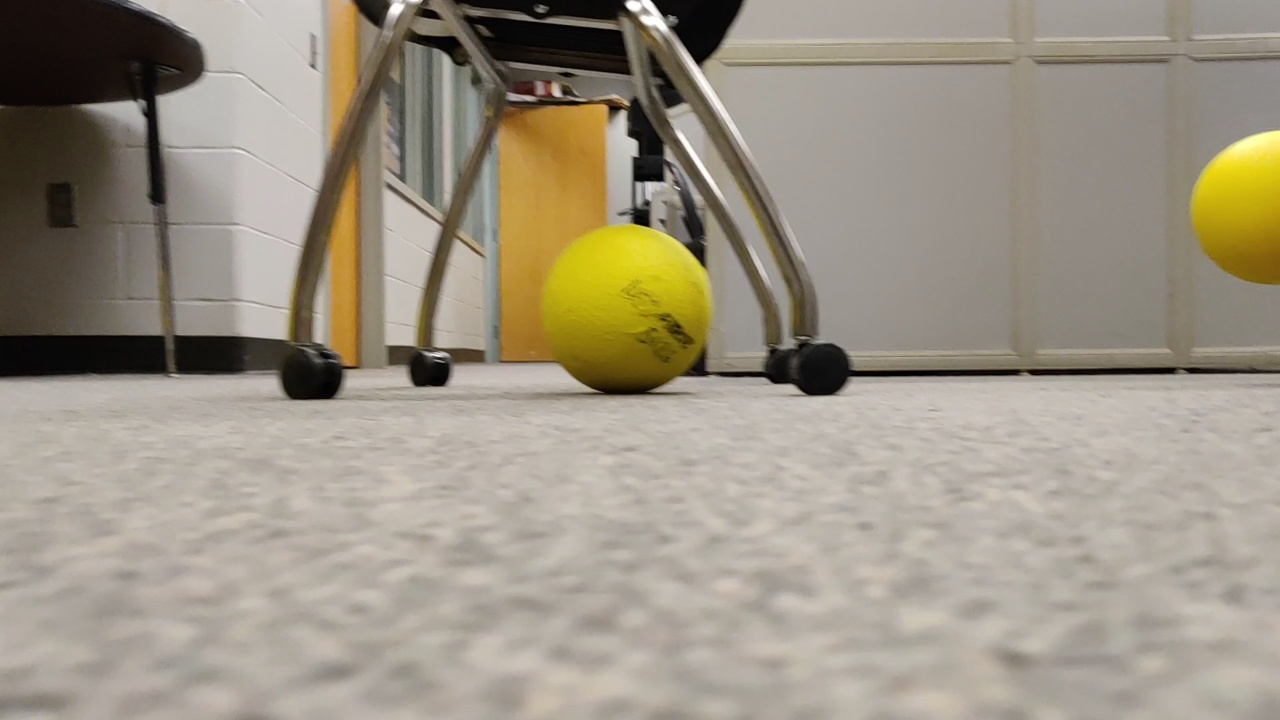Ball: (538, 221, 717, 393), (1187, 126, 1280, 280)
